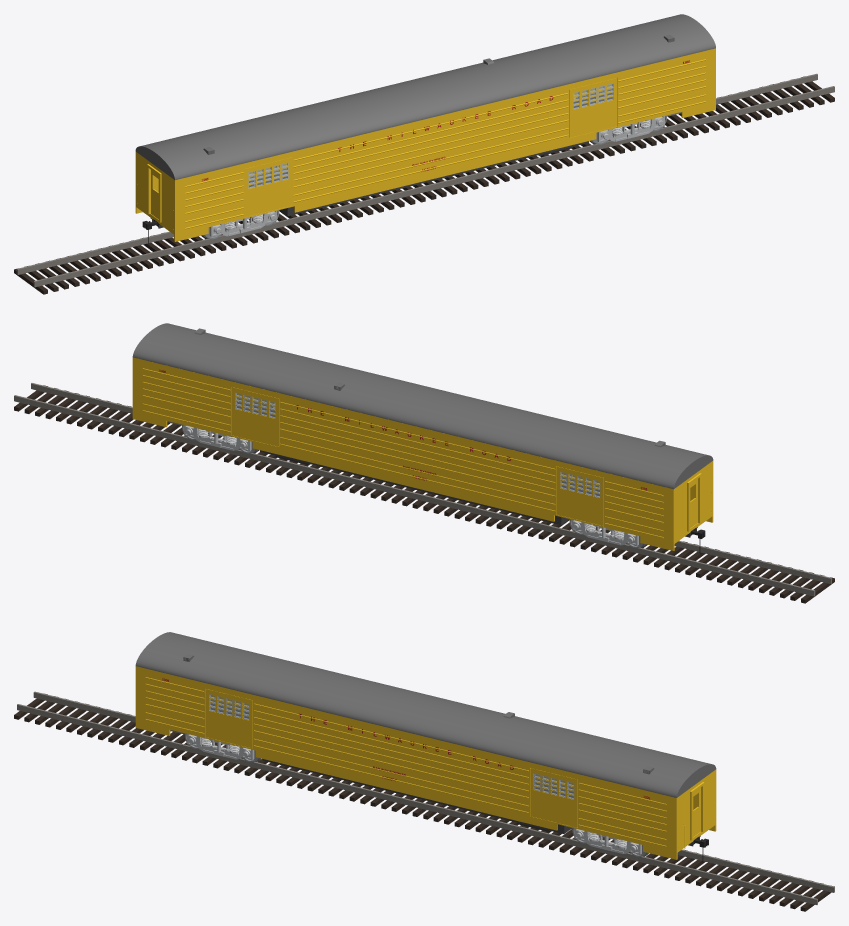
File: MRCE_Express1308_G.glb
3 renders of one model, top to bottom at view 1: azimuth 30°, elevation 25°; view 2: azimuth 150°, elevation 25°; view 3: azimuth 330°, elevation 25°, orthographic.
Visible parts, largest first — view 1: orange, roof, ties, rails, trucks, floor, rims, glass; view 2: orange, roof, ties, rails, trucks, floor, rims, glass; view 3: orange, roof, ties, rails, trucks, floor, rims, glass.
Part boxes in pixels (<box>): orange: <box>135,48,715,241</box>; roof: <box>135,14,715,180</box>; ties: <box>14,76,834,294</box>; rails: <box>16,73,834,287</box>; trucks: <box>209,116,664,236</box>; floor: <box>150,89,611,228</box>; rims: <box>248,83,613,188</box>; glass: <box>249,84,612,187</box>; orange: <box>132,357,713,550</box>; roof: <box>132,323,713,489</box>; ties: <box>14,385,834,603</box>; rails: <box>14,383,831,596</box>; trucks: <box>184,425,638,545</box>; floor: <box>237,398,697,537</box>; rims: <box>235,392,600,497</box>; glass: <box>236,393,599,496</box>; orange: <box>135,666,716,859</box>; roof: <box>135,632,716,797</box>; ties: <box>14,693,834,911</box>; rails: <box>17,691,834,904</box>; trucks: <box>187,734,641,854</box>; floor: <box>210,700,700,846</box>; rims: <box>209,694,574,799</box>; glass: <box>210,695,573,798</box>.
Size of the model in its own units: 1.24 by 0.1487 by 0.1068.
